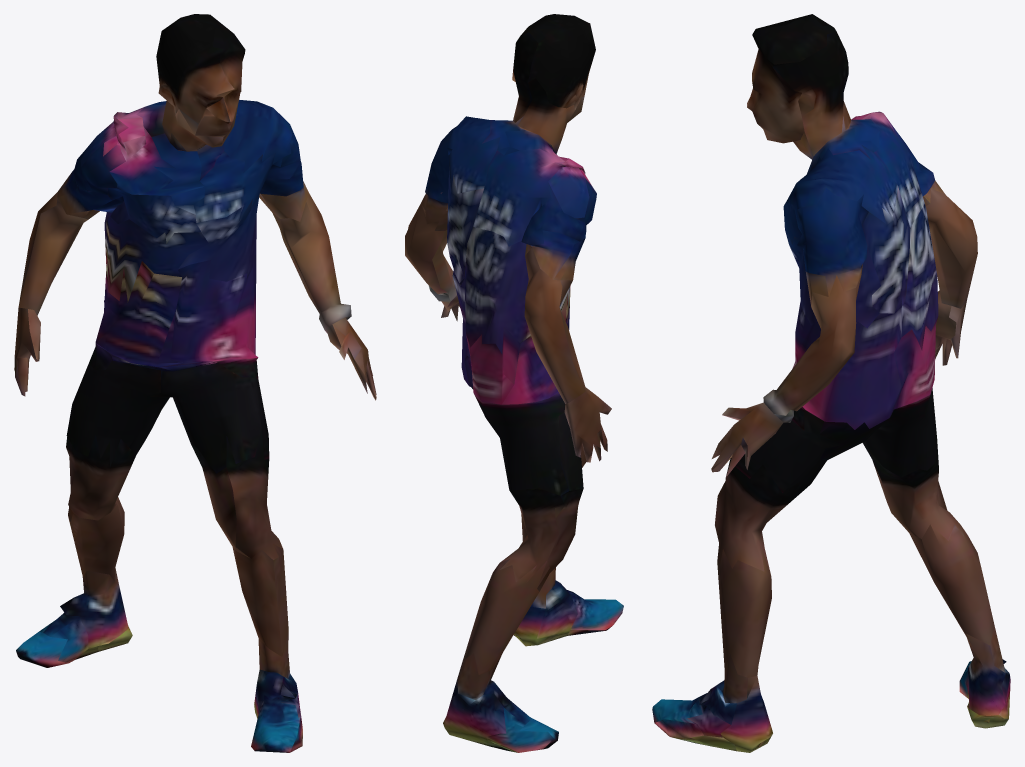
The model's file is half_1_idle_lod2.glb.
3 renders of one model, left to right at view 1: azimuth 30°, elevation 25°; view 2: azimuth 150°, elevation 25°; view 3: azimuth 270°, elevation 25°, orthographic. The views are drawn at different scales.
Visible parts, largest first — view 1: tripo_node_3e64b601; view 2: tripo_node_3e64b601; view 3: tripo_node_3e64b601.
Boxes of the visible parts, bbox=[...] form: tripo_node_3e64b601: bbox=[14, 14, 376, 752]; tripo_node_3e64b601: bbox=[405, 14, 623, 752]; tripo_node_3e64b601: bbox=[652, 14, 1010, 752].
Bounding box in the file's own units: 38.03 × 94.88 × 43.77.
1 material, 1 textured.
